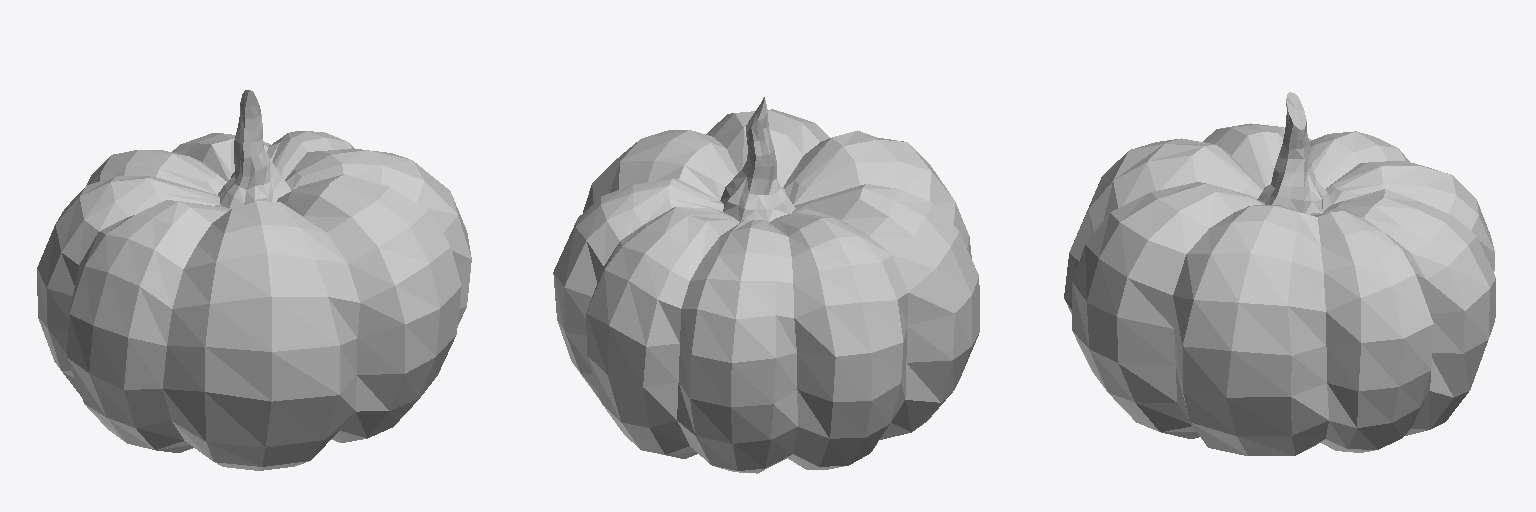
File: pumpkin.obj
3 renders of one model, left to right at view 1: azimuth 30°, elevation 25°; view 2: azimuth 150°, elevation 25°; view 3: azimuth 270°, elevation 25°, orthographic.
Bounding box in the file's own units: 1.2 × 1 × 1.2.